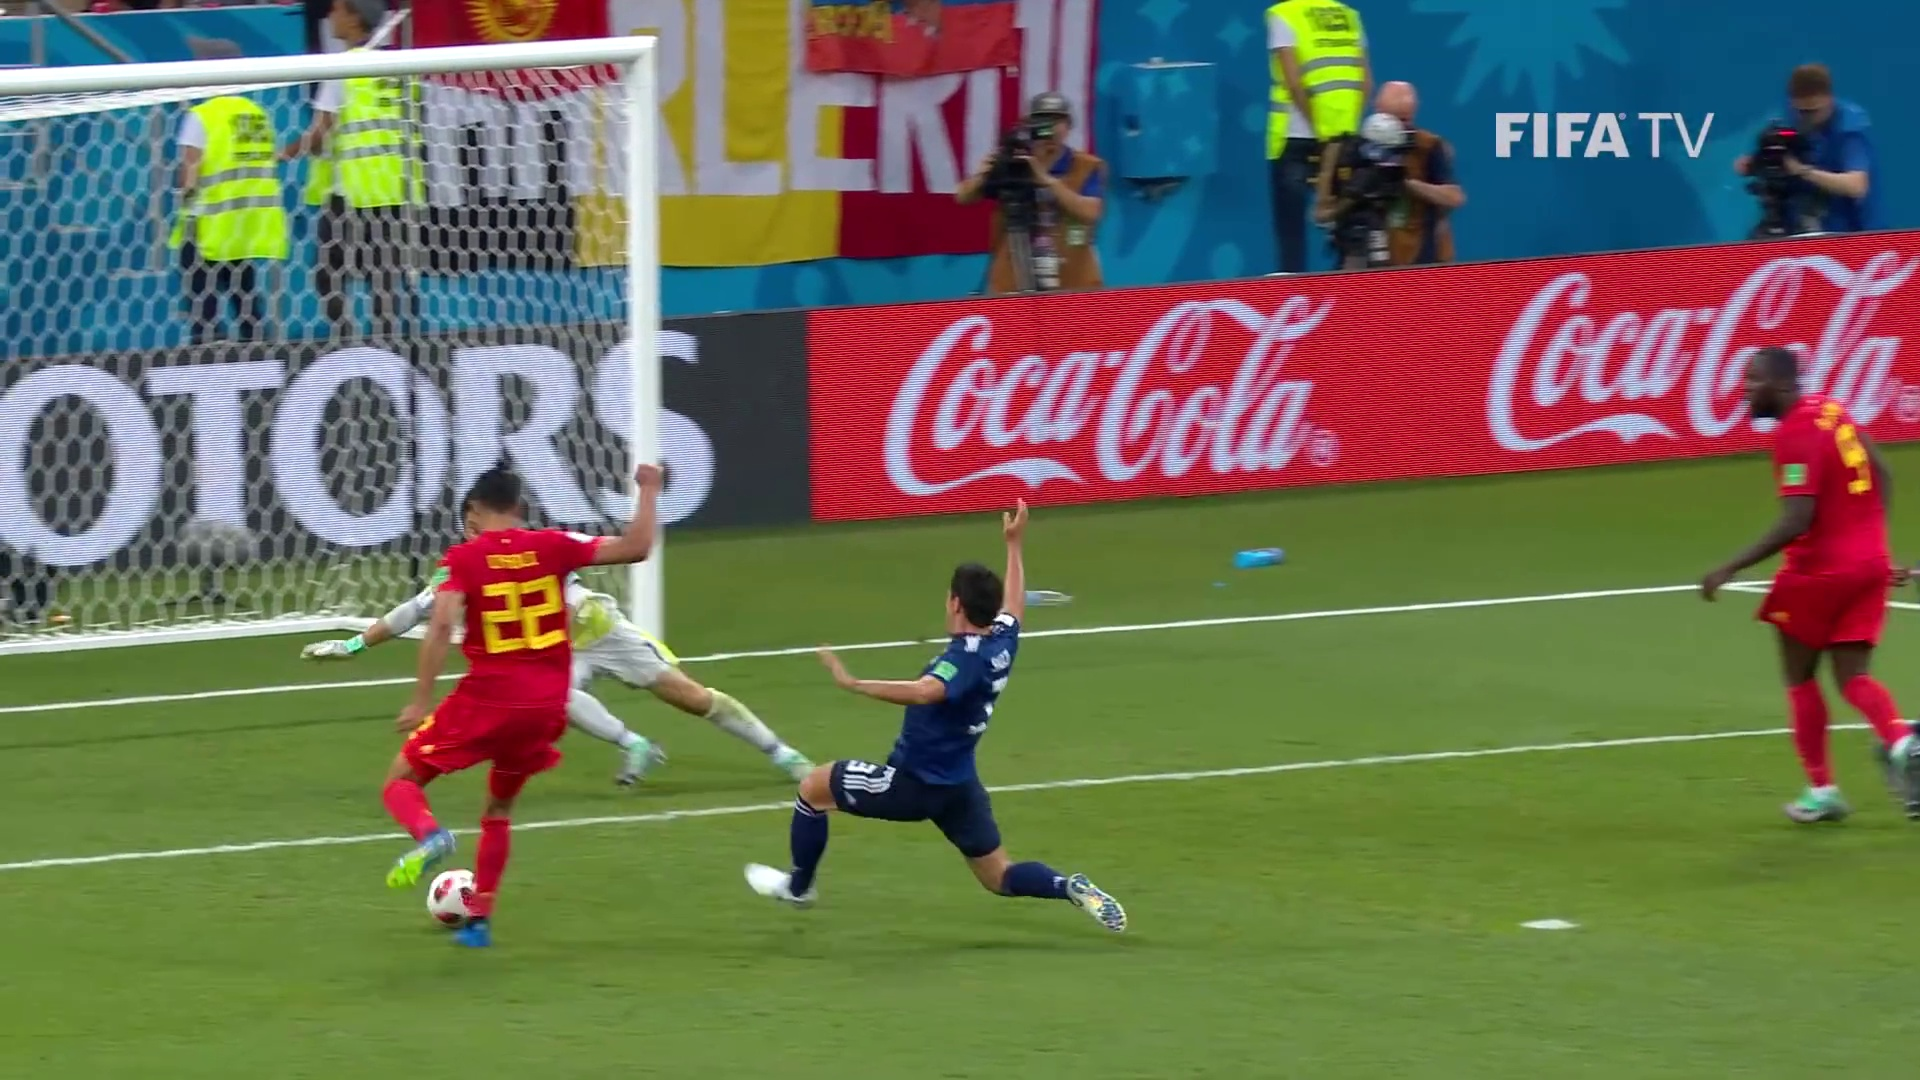ball: (426, 867, 481, 923)
person: (736, 486, 1132, 931), (352, 451, 638, 937), (1705, 329, 1920, 810)
